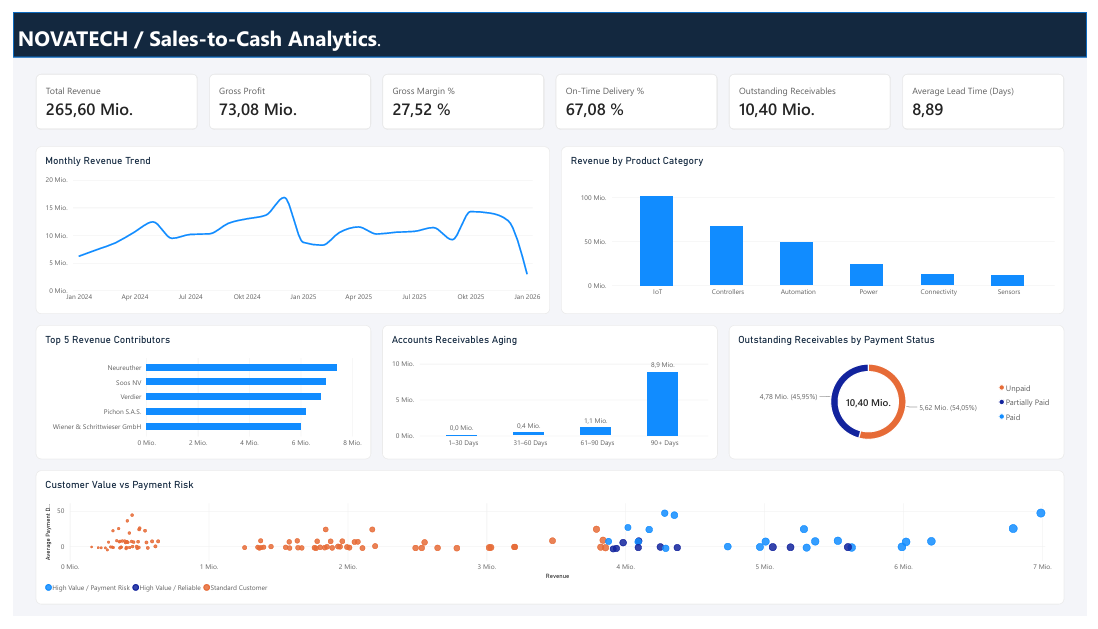

What the dashboard file says about the page in this screenshot:
{"tool":"powerbi","page":{"name":"Executive Overview","canvas":[1920,1080],"ordinal":0},"visuals":[{"type":"cardVisual","fields":{"Data":["customer_performance.Total Revenue"]},"box":[40,110,290,100],"z":0},{"type":"cardVisual","fields":{"Data":["customer_performance.Gross Profit"]},"box":[350,110,290,100],"z":1000},{"type":"cardVisual","fields":{"Data":["customer_performance.Gross Margin %"]},"box":[660,110,290,100],"z":2000},{"type":"cardVisual","fields":{"Data":["customer_performance.On-Time Delivery %"]},"box":[970,110,290,100],"z":3000},{"type":"cardVisual","fields":{"Data":["customer_performance.Avg Lead Time"]},"box":[1590,110,290,100],"z":4000},{"type":"cardVisual","fields":{"Data":["customer_performance.Outstanding Receivables"]},"box":[1280,110,290,100],"z":5000},{"type":"lineChart","title":"Monthly Revenue Trend","fields":{"Category":["public vw_sales_lines.delivery_date.Variation.Datumshierarchie.Jahr","public vw_sales_lines.delivery_date.Variation.Datumshierarchie.Monat"],"Y":["customer_performance.Total Revenue"]},"box":[40,240,920,300],"z":6000},{"type":"columnChart","title":"Revenue by Product Category","fields":{"Category":["public vw_sales_lines.product_category"],"Y":["customer_performance.Total Revenue"]},"box":[980,240,900,300],"z":7000},{"type":"barChart","title":"Top 5 Revenue Contributors","fields":{"Category":["public vw_sales_lines.customer_name"],"Y":["customer_performance.Total Revenue"]},"box":[40,560,600,240],"z":8000},{"type":"scatterChart","title":"Customer Value vs Payment Risk","fields":{"Category":["customer_performance.customer_name"],"Series":["customer_performance.customer_profile"],"Size":["customer_performance.Gross Profit"],"X":["Sum(customer_performance.revenue)"],"Y":["Avg(customer_performance.avg_payment_delay_days)"]},"box":[40,820,1840,240],"z":9000},{"type":"donutChart","title":"Outstanding Recievables by Payment Status","fields":{"Category":["public vw_invoice_status.payment_status"],"Y":["Sum(public vw_invoice_status.outstanding_amount)"]},"box":[1280,560,600,240],"z":10000},{"type":"clusteredColumnChart","title":"Accounts Recievables Aging","fields":{"Category":["public vw_invoice_status.AR Aging Bucket"],"Y":["Sum(public vw_invoice_status.outstanding_amount)"]},"box":[660,560,600,240],"z":11000},{"type":"shape","box":[0,0,1920,80],"z":12000,"group":"g1"},{"type":"textbox","box":[0,20,1920,60],"z":13000,"group":"g1"},{"type":"group","id":"g1","title":"Gruppe 1","box":[0,0,1920,80],"z":13001}]}

Visuals, with their boxes in screenshot pixels (x1, y1, x2, y2), scaled from the page's 1920x1080 canvas onto the 1098x629 screenshot:
cardVisual - customer_performance.Total Revenue: box(23, 64, 189, 122)
cardVisual - customer_performance.Gross Profit: box(200, 64, 366, 122)
cardVisual - customer_performance.Gross Margin %: box(377, 64, 543, 122)
cardVisual - customer_performance.On-Time Delivery %: box(555, 64, 721, 122)
cardVisual - customer_performance.Avg Lead Time: box(909, 64, 1075, 122)
cardVisual - customer_performance.Outstanding Receivables: box(732, 64, 898, 122)
"Monthly Revenue Trend" lineChart: box(23, 140, 549, 314)
"Revenue by Product Category" columnChart: box(560, 140, 1075, 314)
"Top 5 Revenue Contributors" barChart: box(23, 326, 366, 466)
"Customer Value vs Payment Risk" scatterChart: box(23, 478, 1075, 617)
"Outstanding Recievables by Payment Status" donutChart: box(732, 326, 1075, 466)
"Accounts Recievables Aging" clusteredColumnChart: box(377, 326, 721, 466)
shape: box(0, 0, 1097, 47)
textbox: box(0, 12, 1097, 47)
"Gruppe 1" group: box(0, 0, 1097, 47)
